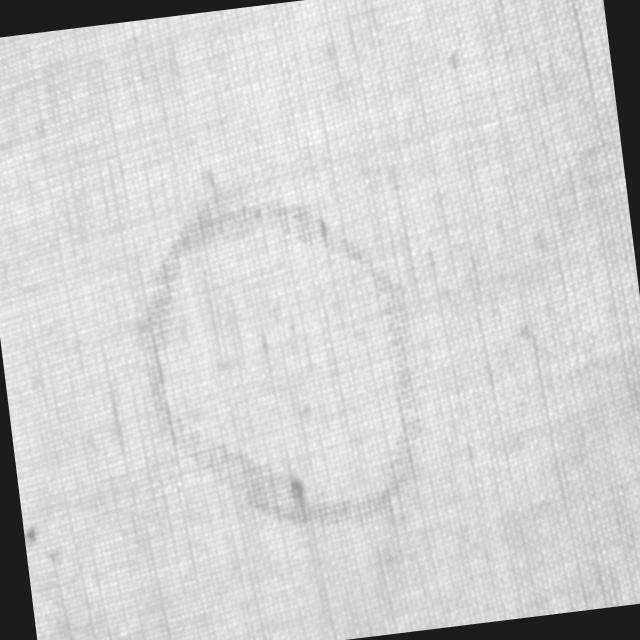oil spot: (111, 136, 438, 550)
